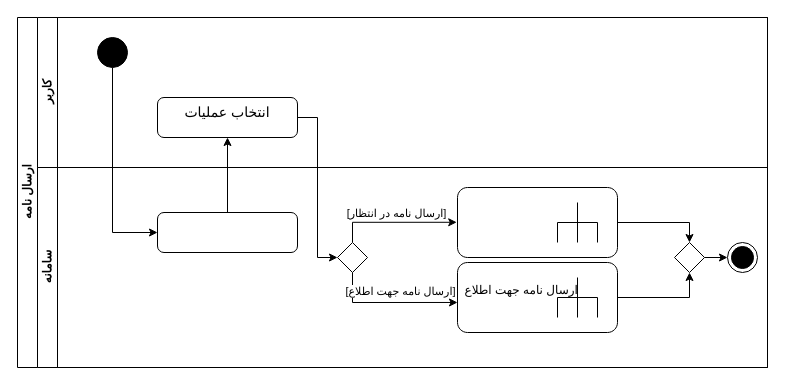
This 785x385 diagram has some shape labels left out. The centre of each missing label's shape, as x and y in pixels:
"ارسال نامه در انتظار" belongs at point (537, 222).
"درخواست انتخاب عملیات" belongs at point (227, 232).
